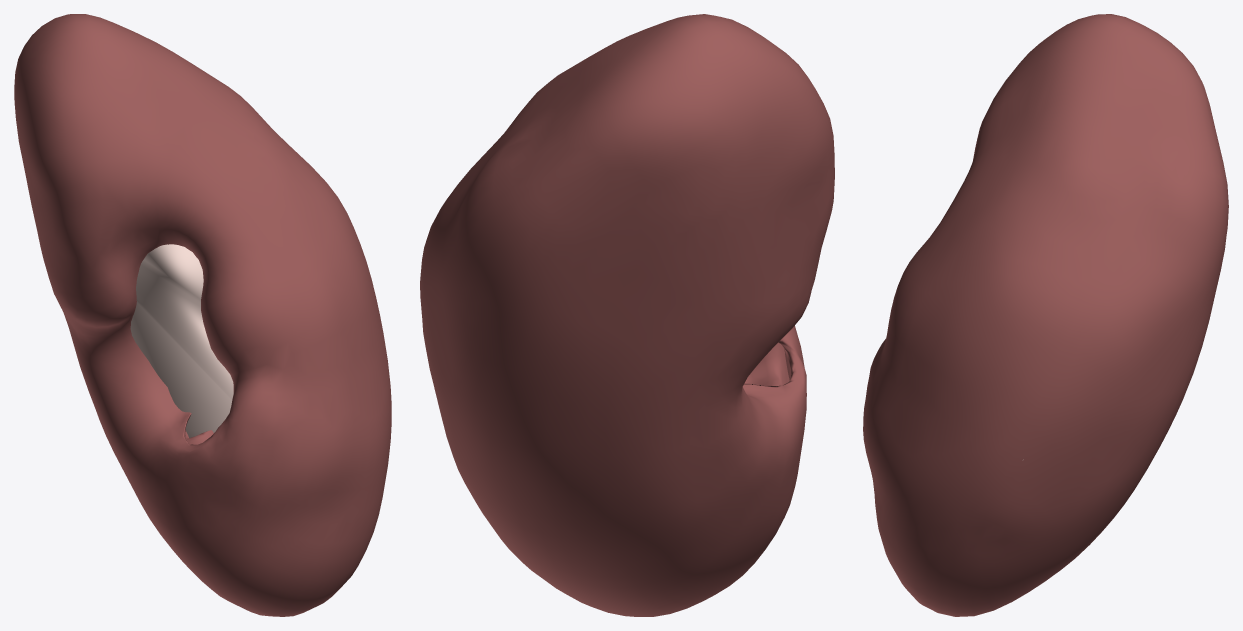
Rendered from vh_f_kidney_l-80.glb.
3 views of the same model, side by side, from view 1: azimuth 30°, elevation 25°; view 2: azimuth 150°, elevation 25°; view 3: azimuth 270°, elevation 25° (orthographic). The views are drawn at different scales.
Visible parts, largest first — view 1: VH_F_kidney_capsule_L, VH_F_renal_column_L; view 2: VH_F_kidney_capsule_L, VH_F_hilum_of_kidney_L; view 3: VH_F_kidney_capsule_L.
Part boxes in pixels (left/top/right/bottom): VH_F_kidney_capsule_L: left=14, top=14, right=391, bottom=616; VH_F_renal_column_L: left=130, top=244, right=233, bottom=437; VH_F_kidney_capsule_L: left=420, top=14, right=834, bottom=616; VH_F_hilum_of_kidney_L: left=744, top=342, right=789, bottom=385; VH_F_kidney_capsule_L: left=863, top=14, right=1228, bottom=616.
Bounding box in the file's own units: 0.0731 × 0.1249 × 0.0776.
